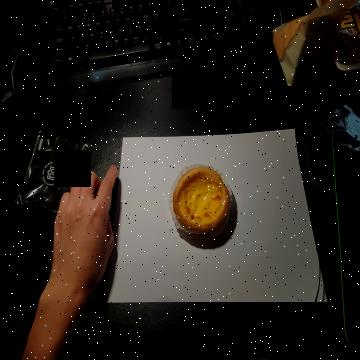EggTart: (173, 165, 229, 232)
